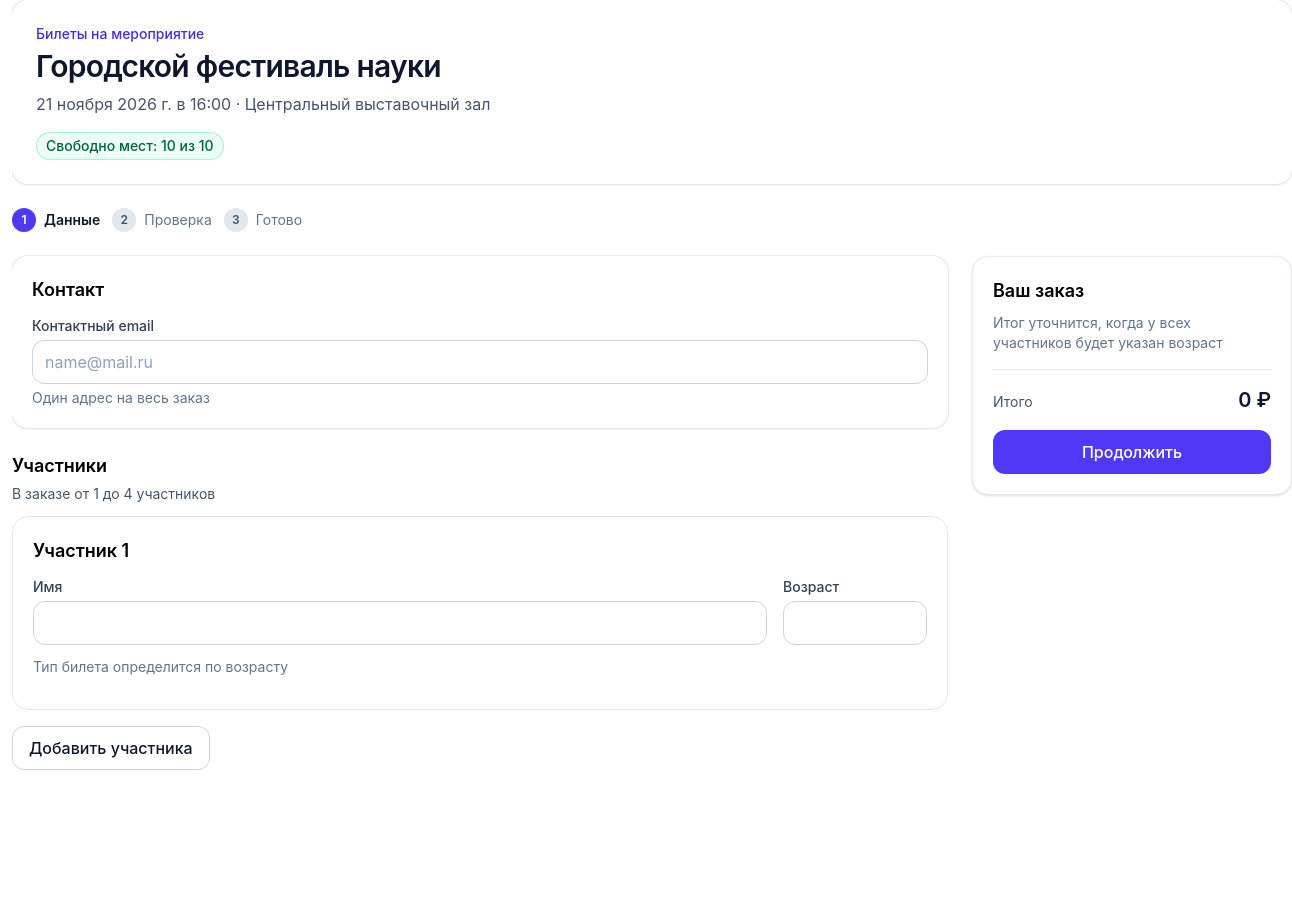
Scenario: состав заказа › удаление сохраняет данные остальных участников
Click the button "Добавить участника" at (111, 748), box x1=12 y1=726 x2=210 y2=770
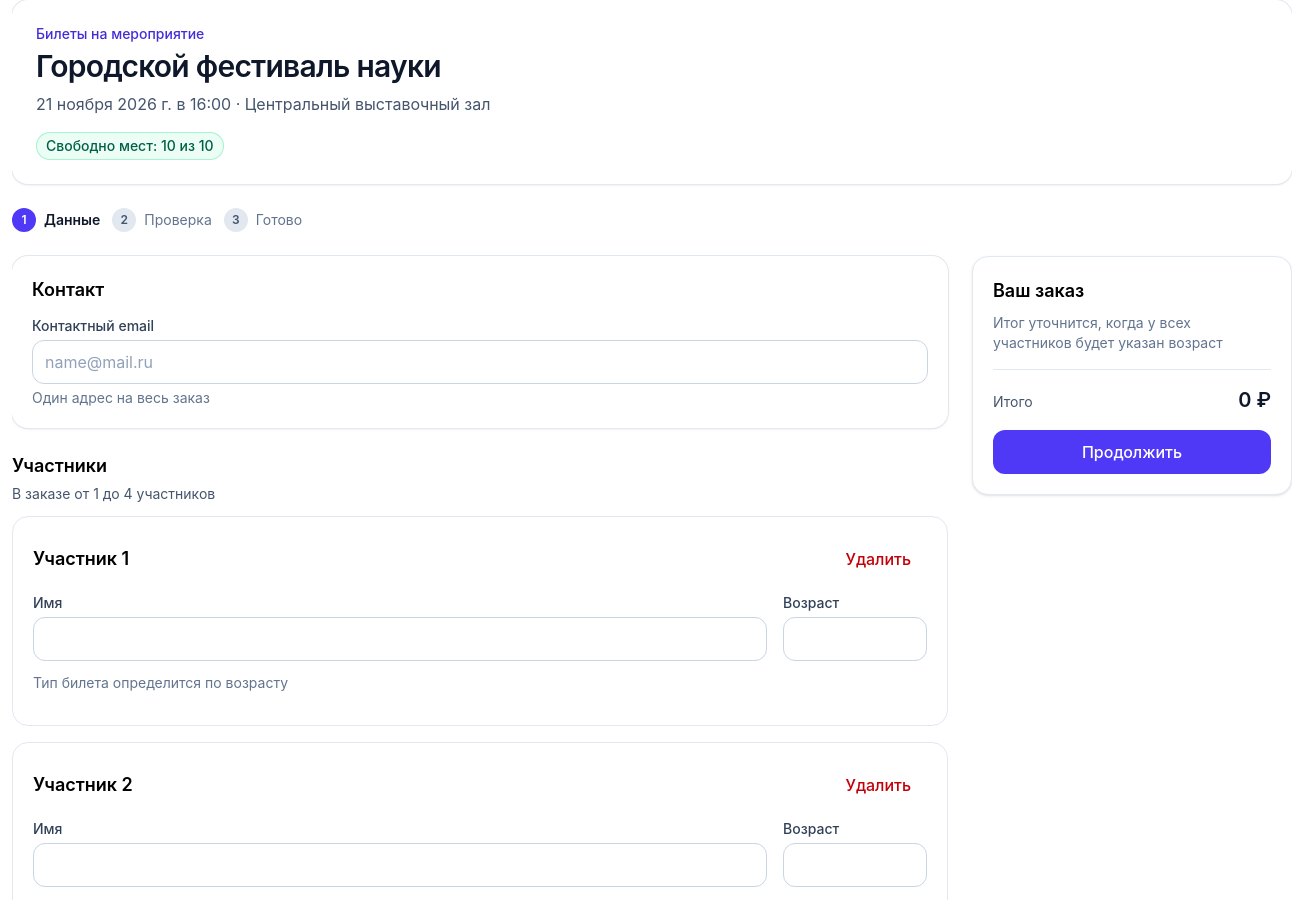
Type "Анна" into the field named "Имя участника 1" at (400, 639), box x1=33 y1=617 x2=767 y2=661
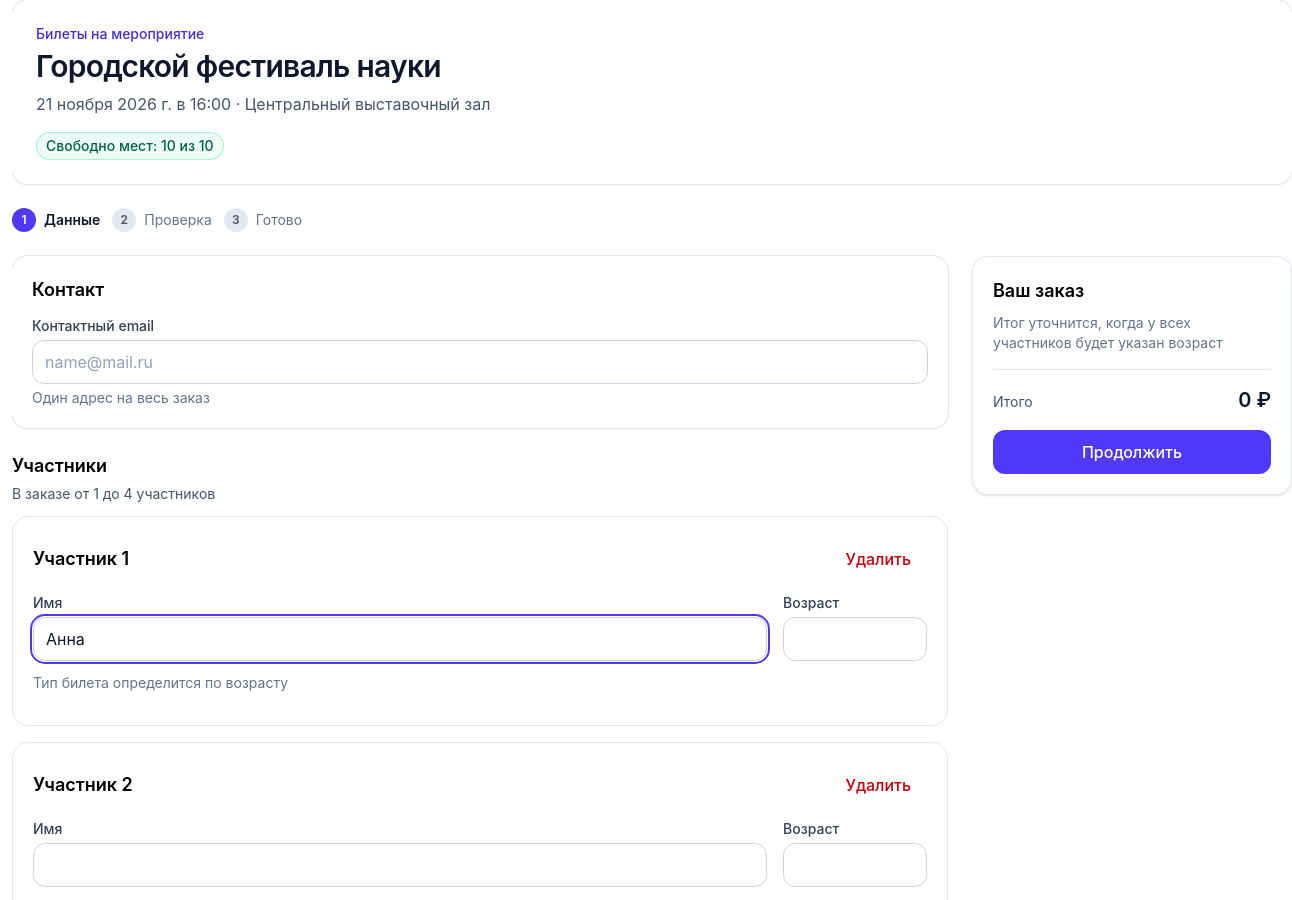
Type "35" into the field named "Возраст участника 1" at (855, 639), box x1=783 y1=617 x2=927 y2=661
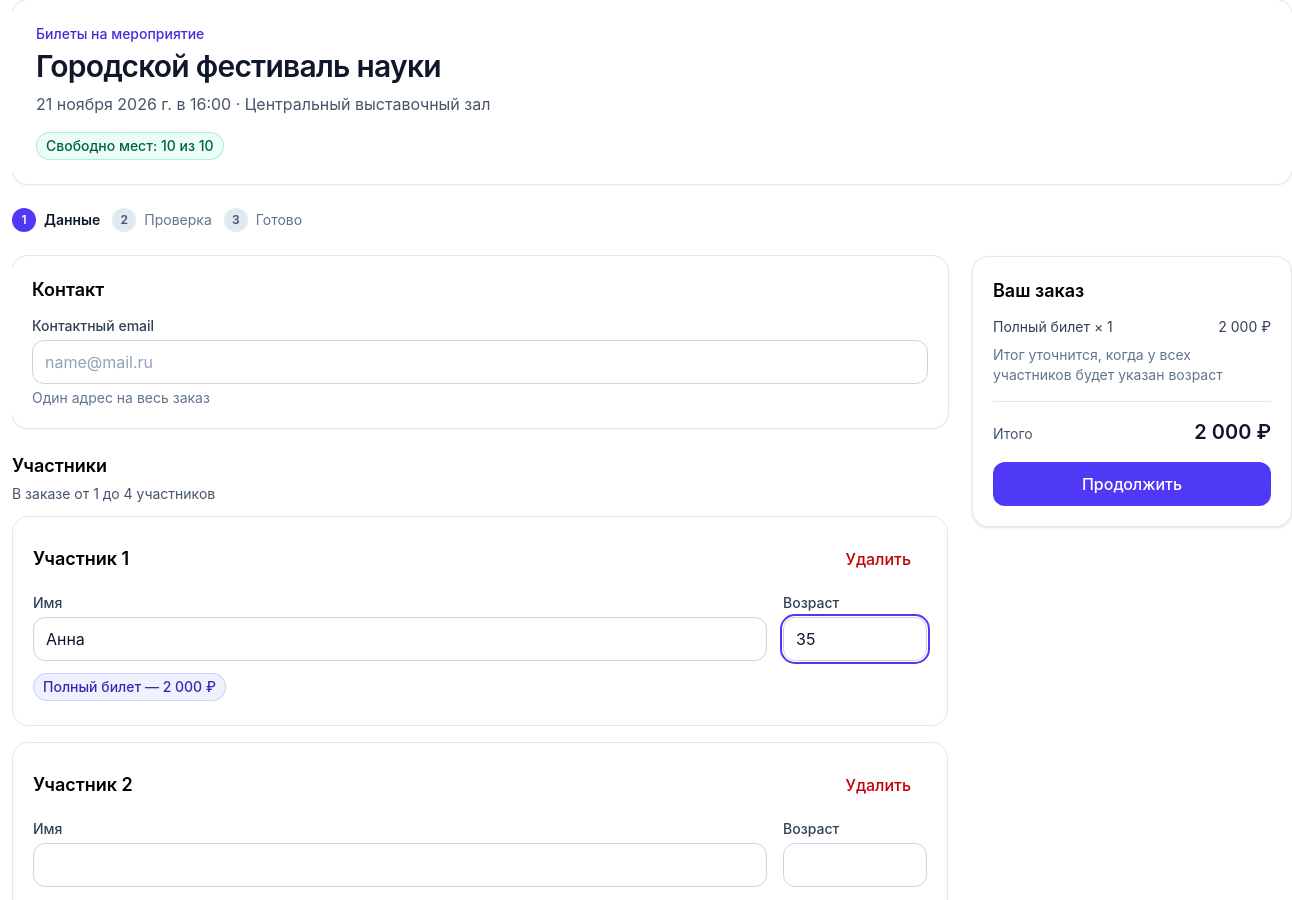
Type "Маша" into the field named "Имя участника 2" at (400, 865), box x1=33 y1=843 x2=767 y2=887
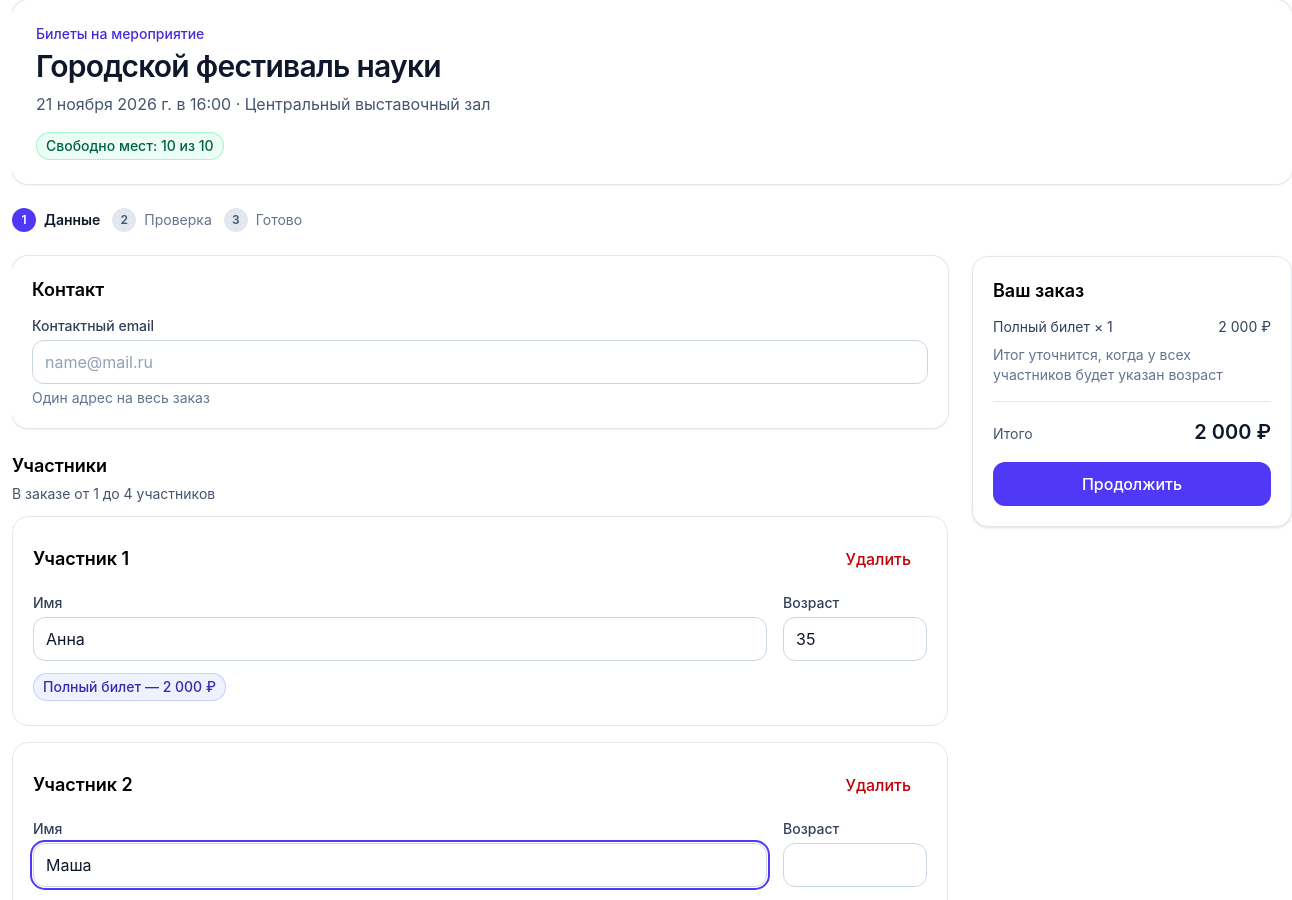
Type "8" into the field named "Возраст участника 2" at (855, 865), box x1=783 y1=843 x2=927 y2=887
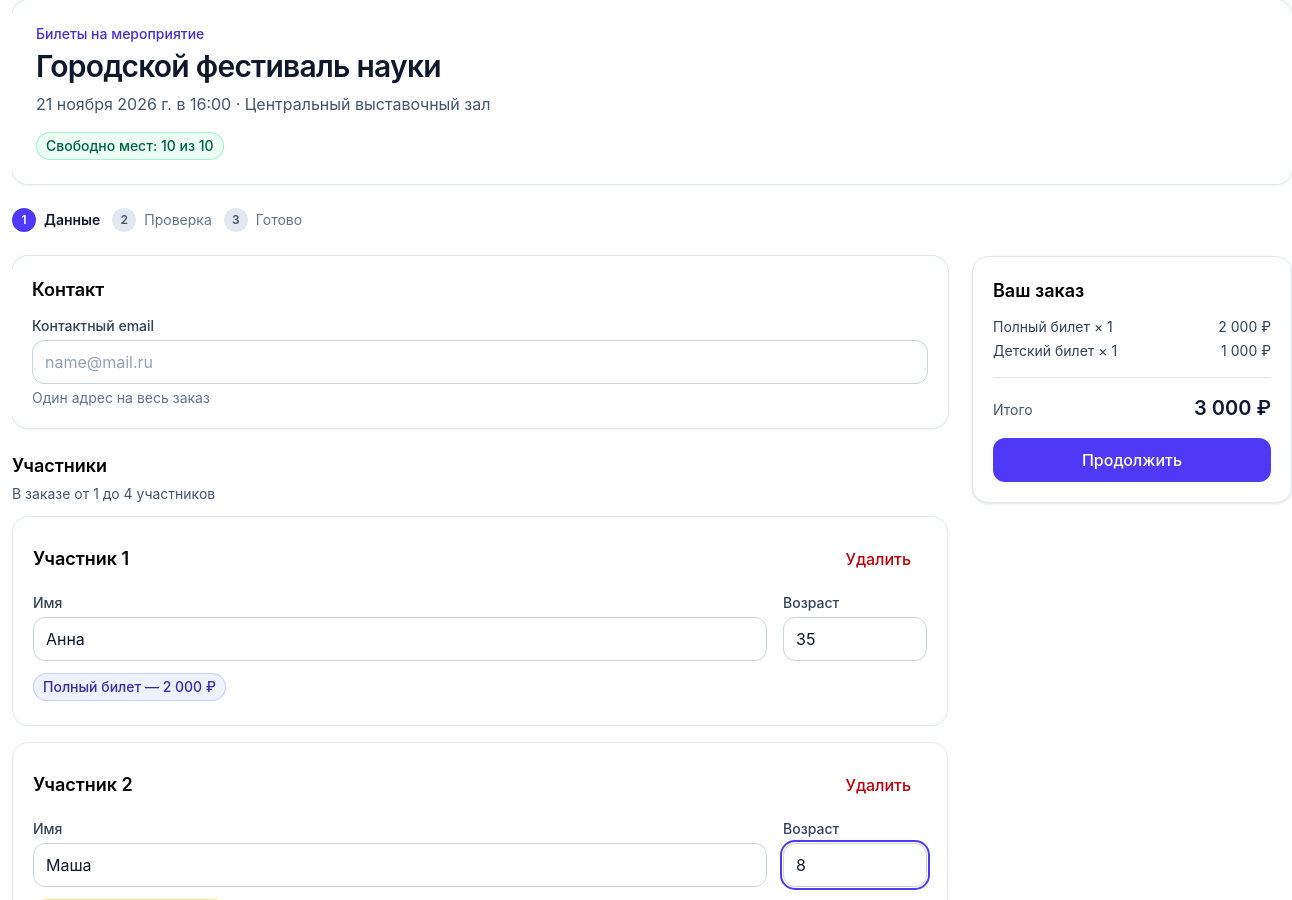
Click the button with aria-label "Удалить участника 1" at (878, 559), box x1=830 y1=537 x2=927 y2=581
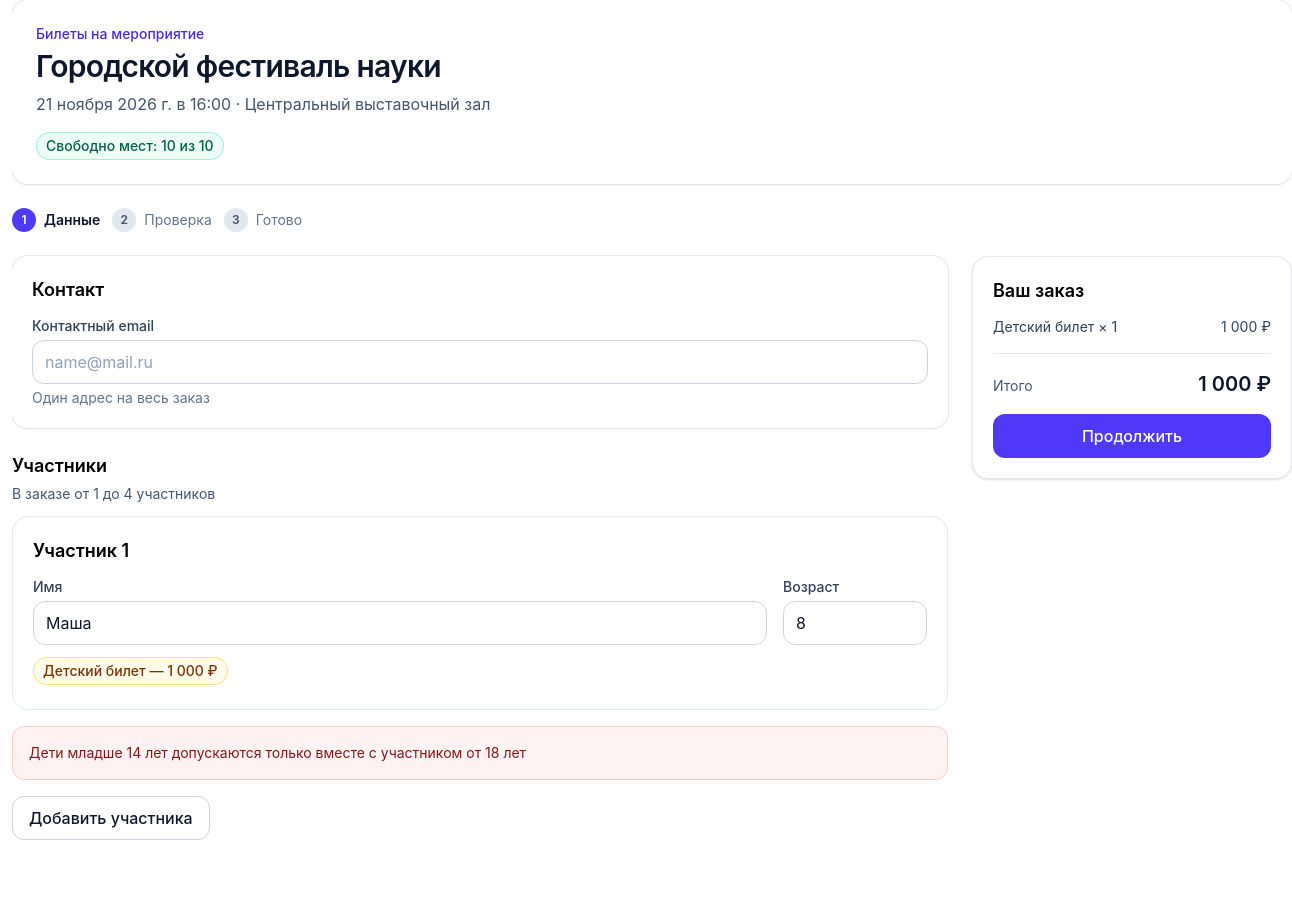
Now the field named "Имя участника 1" holds "Маша", box x1=33 y1=601 x2=767 y2=645
Now the field named "Возраст участника 1" holds "8", box x1=783 y1=601 x2=927 y2=645
